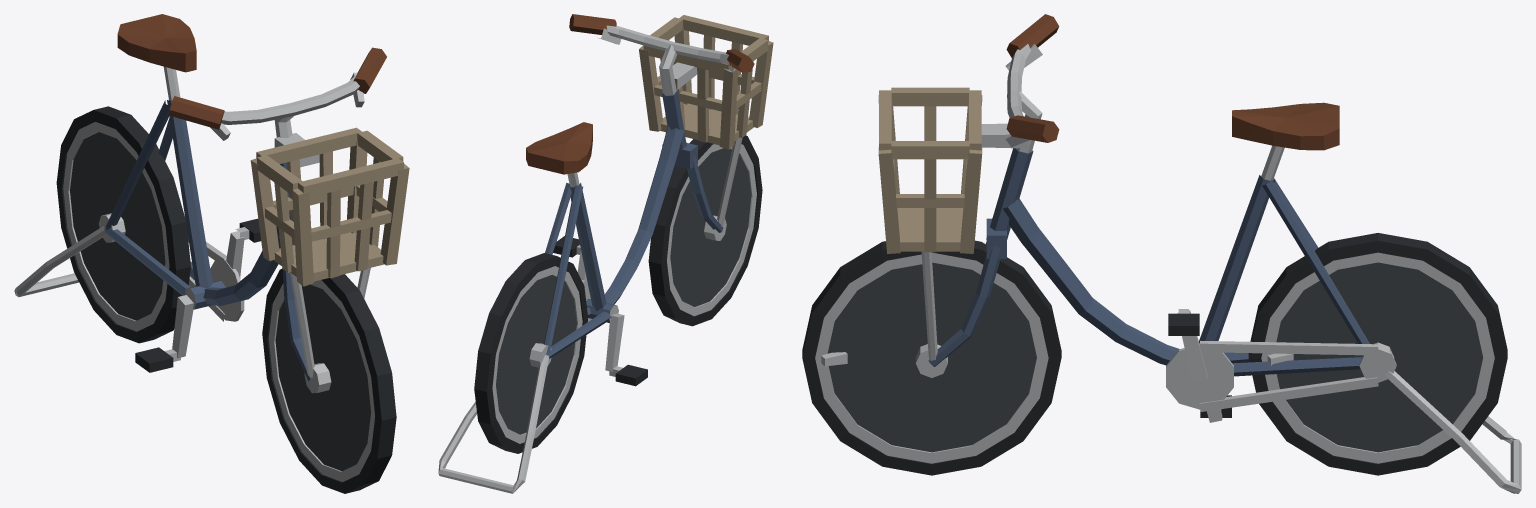
Rendered from city-bicycle-5b67d1.glb.
3 renders of one model, left to right at view 1: azimuth 30°, elevation 25°; view 2: azimuth 150°, elevation 25°; view 3: azimuth 270°, elevation 25°, orthographic. The views are drawn at different scales.
Parts seen in each view (by area): view 1: body; view 2: body; view 3: body.
Boxes of the visible parts, bbox=[...] form: body: bbox=[14, 14, 409, 493]; body: bbox=[438, 14, 773, 493]; body: bbox=[802, 14, 1521, 493].
Bounding box in the file's own units: 0.6415 × 1.04 × 1.69.
